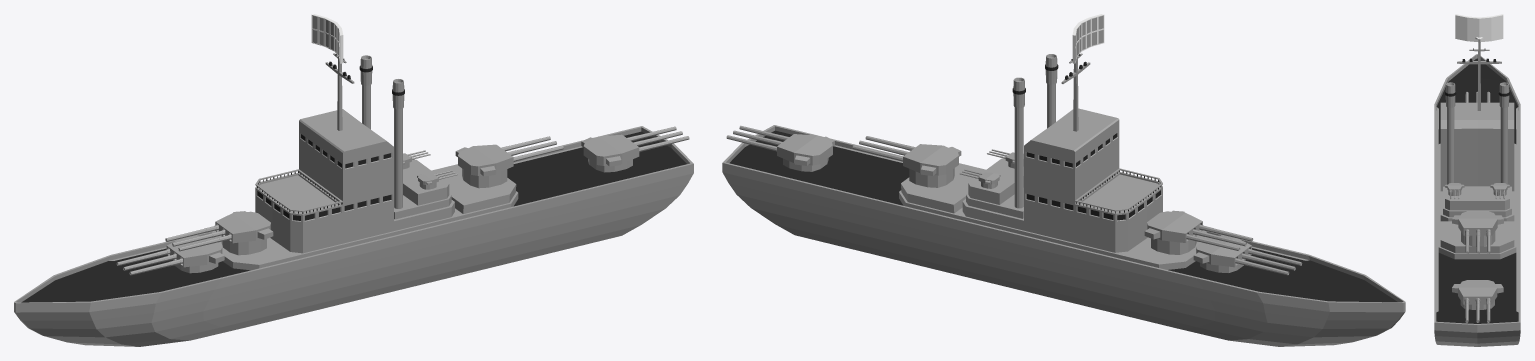
File: Warship_1.fbx
3 views of the same model, side by side, from view 1: azimuth 30°, elevation 25°; view 2: azimuth 150°, elevation 25°; view 3: azimuth 270°, elevation 25° (orthographic). The views are drawn at different scales.
Visible parts, largest first — view 1: Warship_1, Warship_1 Canoon_5, Warship_1 Canoon_4, Warship_1 Canoon, Warship_1 Canoon_1, Warship_1 Radar; view 2: Warship_1, Warship_1 Canoon, Warship_1 Canoon_4, Warship_1 Canoon_5, Warship_1 Canoon_1, Warship_1 Radar; view 3: Warship_1, Warship_1 Canoon_5, Warship_1 Canoon_4, Warship_1 Radar, Warship_1 Canoon_2, Warship_1 Canoon_3, Warship_1 Canoon_1.
Part boxes in pixels (box(x1,y1,x2,y2)): Warship_1: box(14, 53, 693, 346); Warship_1 Canoon_5: box(581, 126, 689, 166); Warship_1 Canoon_4: box(455, 136, 563, 176); Warship_1 Canoon: box(165, 211, 273, 251); Warship_1 Canoon_1: box(116, 235, 224, 275); Warship_1 Radar: box(311, 14, 343, 63); Warship_1: box(722, 53, 1405, 346); Warship_1 Canoon: box(1144, 210, 1253, 250); Warship_1 Canoon_4: box(852, 136, 961, 175); Warship_1 Canoon_5: box(726, 125, 834, 165); Warship_1 Canoon_1: box(1193, 235, 1302, 275); Warship_1 Radar: box(1072, 14, 1104, 63); Warship_1: box(1434, 37, 1520, 346); Warship_1 Canoon_5: box(1452, 280, 1503, 322); Warship_1 Canoon_4: box(1452, 211, 1503, 254); Warship_1 Radar: box(1455, 14, 1503, 41); Warship_1 Canoon_2: box(1490, 183, 1509, 199); Warship_1 Canoon_3: box(1445, 183, 1464, 199); Warship_1 Canoon_1: box(1465, 91, 1490, 102).
Bounding box in the file's own units: 53.37 × 19.87 × 7.16.
